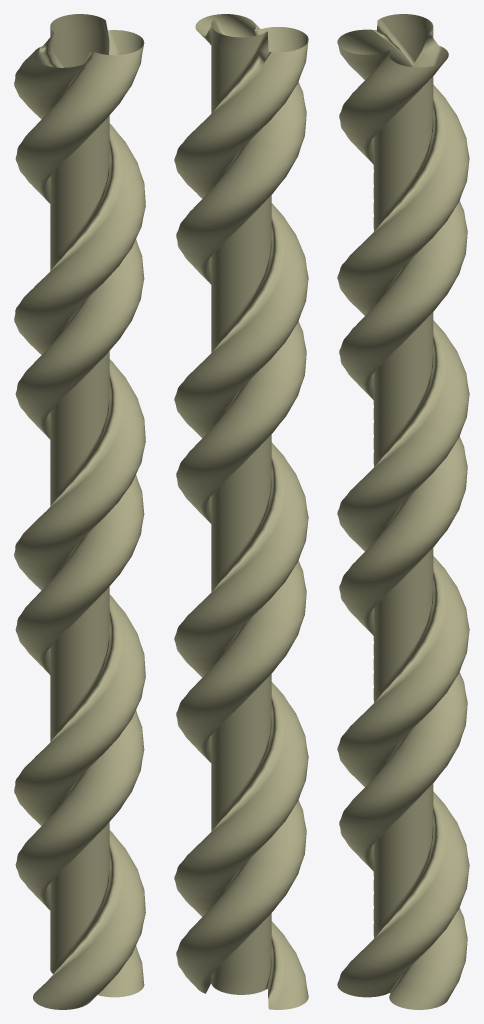
The model's file is StoneWell_part_12.fbx.
3 renders of one model, left to right at view 1: azimuth 30°, elevation 25°; view 2: azimuth 150°, elevation 25°; view 3: azimuth 330°, elevation 25°, orthographic.
Visible parts, largest first — view 1: Circle.012_Material_0.001; view 2: Circle.012_Material_0.001; view 3: Circle.012_Material_0.001.
Part boxes in pixels (left/top/right/bottom): Circle.012_Material_0.001: left=14, top=14, right=145, bottom=1009; Circle.012_Material_0.001: left=174, top=14, right=308, bottom=1009; Circle.012_Material_0.001: left=337, top=14, right=469, bottom=1009.
Size of the model in its own units: 28.91 by 232 by 28.91.
